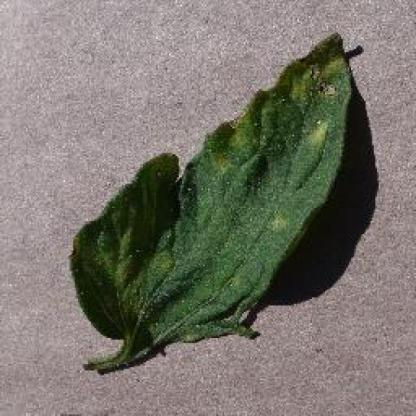Tomato_Leaf_Mold: (71, 31, 348, 338)
